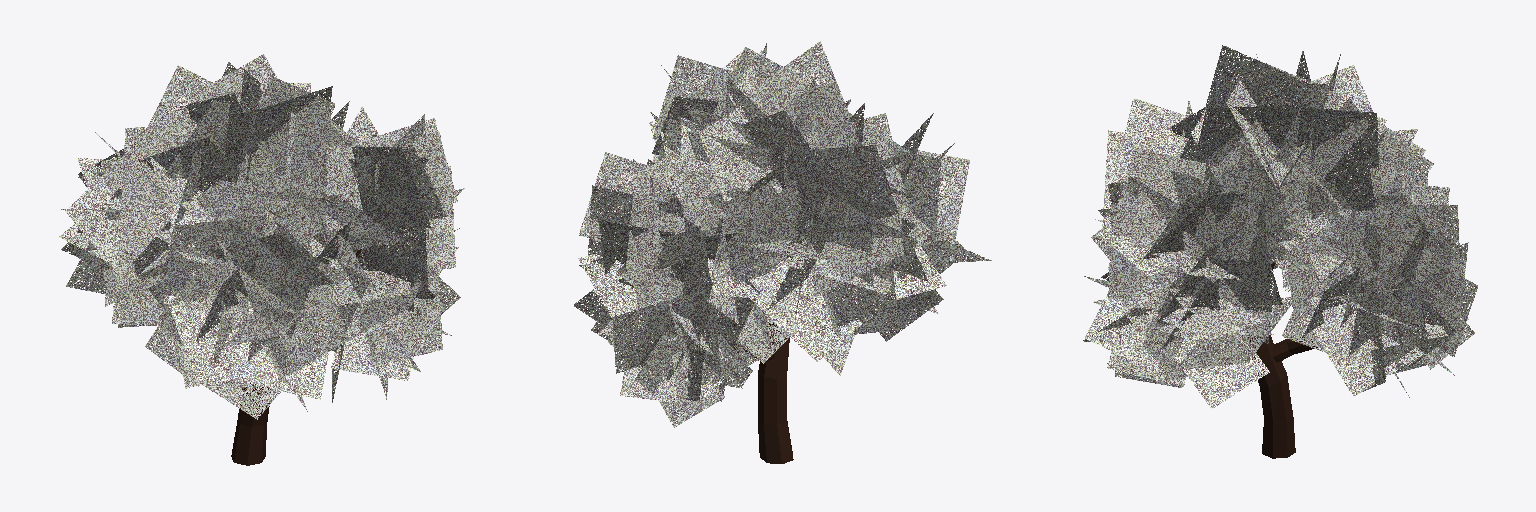
The picture shows the model from 3 angles: view 1: azimuth 30°, elevation 25°; view 2: azimuth 150°, elevation 25°; view 3: azimuth 270°, elevation 25°; orthographic projection.
Parts seen in each view (by area): view 1: Leaves1, Trunk1; view 2: Leaves1, Trunk1; view 3: Leaves1, Trunk1.
Boxes of the visible parts, x1,y1,x2,y2 form: Leaves1: [59, 54, 464, 419]; Trunk1: [231, 249, 361, 465]; Leaves1: [574, 41, 991, 427]; Trunk1: [697, 140, 793, 463]; Leaves1: [1083, 45, 1477, 408]; Trunk1: [1239, 115, 1317, 458].
Bounding box in the file's own units: 39.83 × 44.54 × 40.11.
Materials: 2 (1 with a texture image).